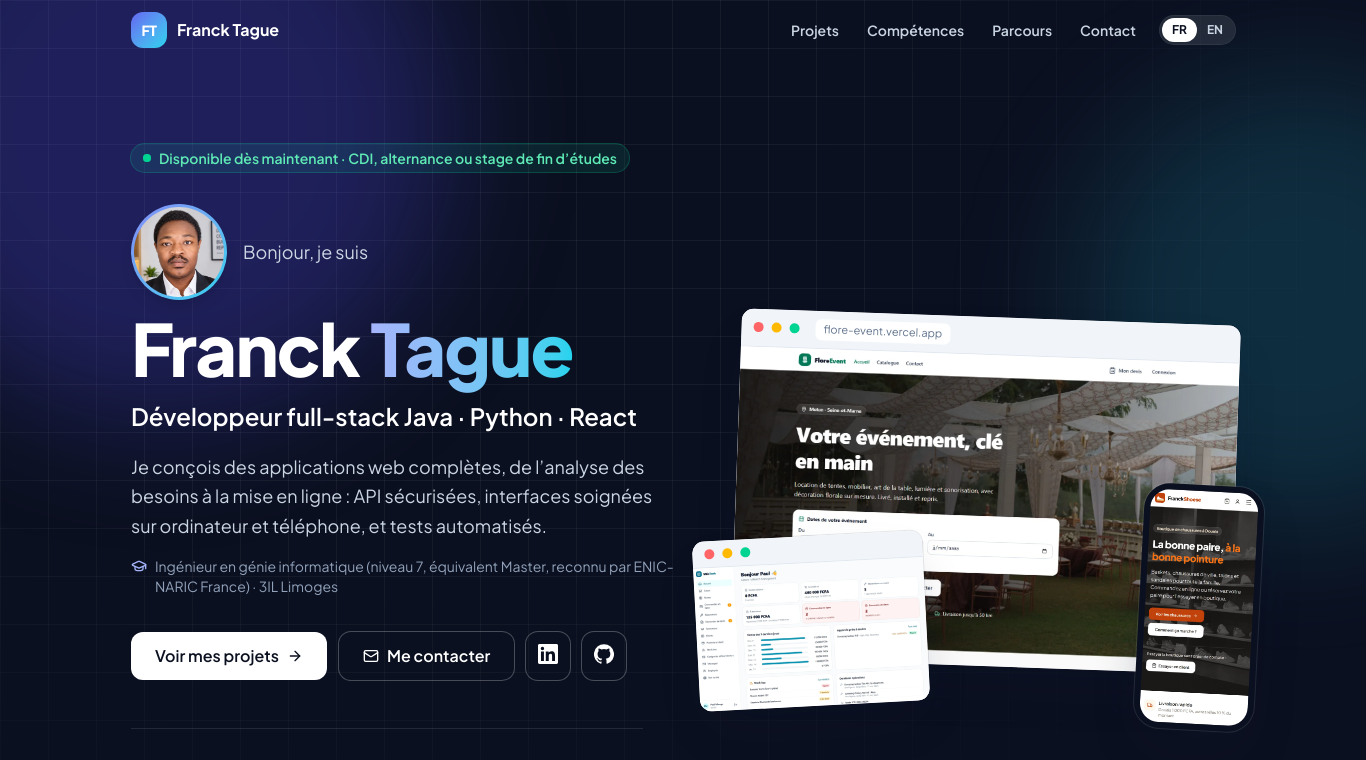
it: Portfolio › passe en anglais et garde ce choix
Expected: the text "Développeur full-stack Java · Python · React" is shown, [131,400,680,432]
Click the button "en".
click(1215, 30)  # box [1197,18,1233,42]
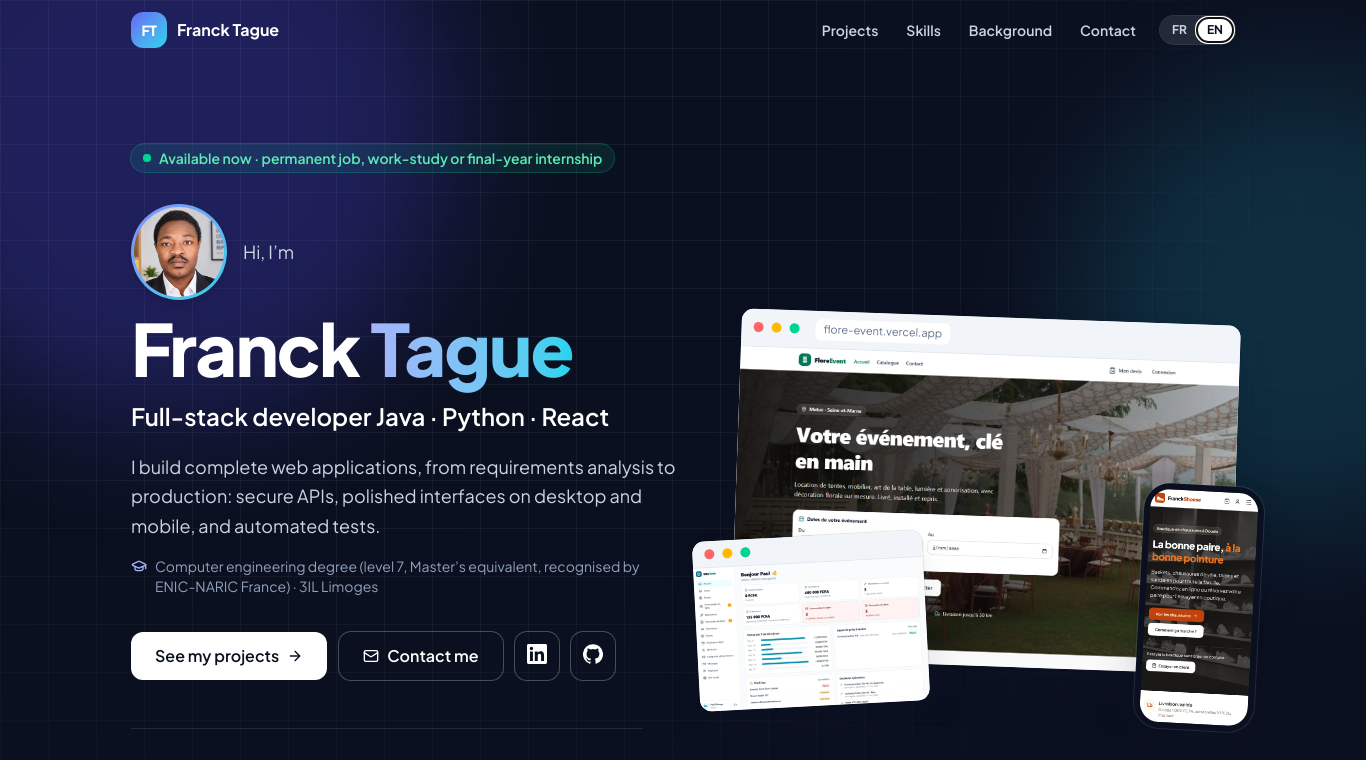
Now the text "Full-stack developer Java · Python · React" is shown, box [131,400,680,432]
